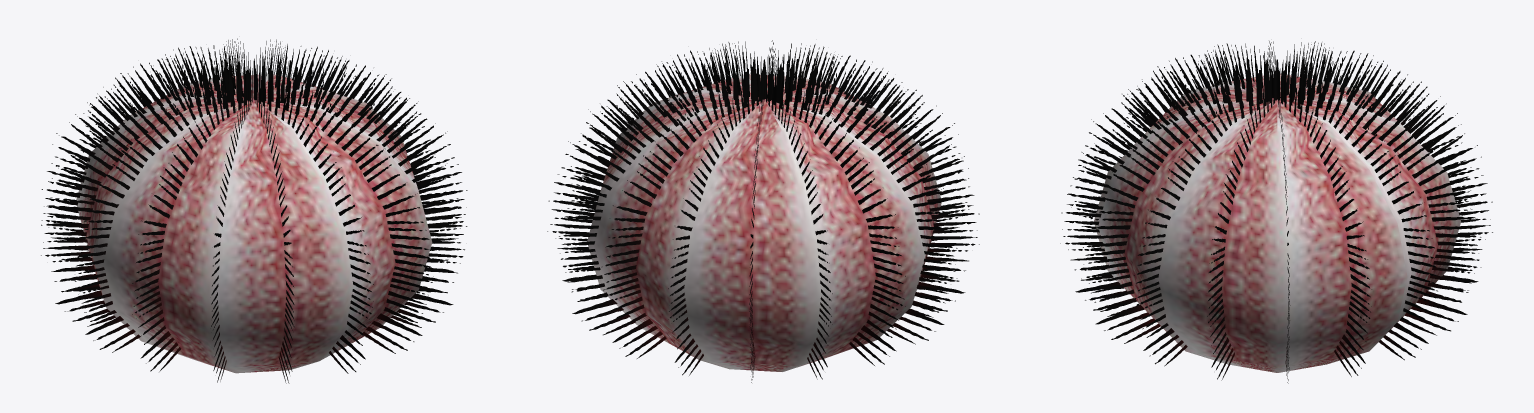
Rendered from urchinWithHairShortRed.fbx.
3 renders of one model, left to right at view 1: azimuth 30°, elevation 25°; view 2: azimuth 150°, elevation 25°; view 3: azimuth 270°, elevation 25°, orthographic.
Parts seen in each view (by area): view 1: urchinWithHairShortRedObject; view 2: urchinWithHairShortRedObject; view 3: urchinWithHairShortRedObject.
Boxes of the visible parts, <box> form: urchinWithHairShortRedObject: <box>41,38,467,383</box>; urchinWithHairShortRedObject: <box>547,40,979,382</box>; urchinWithHairShortRedObject: <box>1060,41,1492,383</box>.
Size of the model in its own units: 0.1399 by 0.0963 by 0.1399.
Materials: 1 (1 with a texture image).
